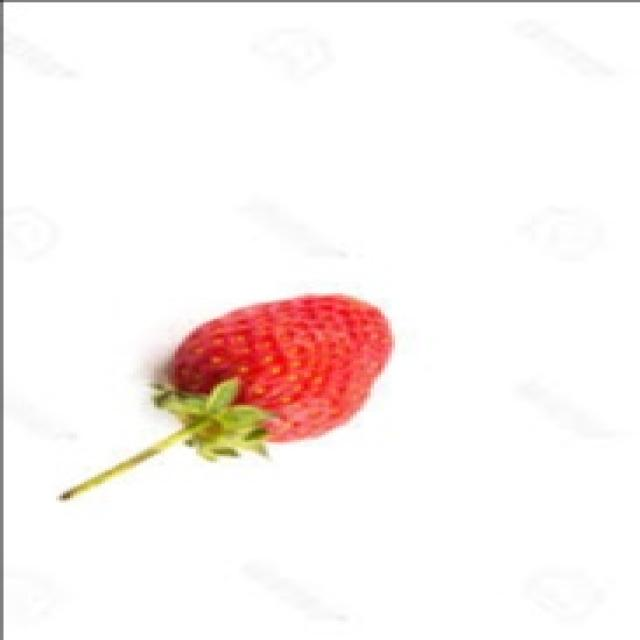strawberry: (51, 280, 412, 510)
